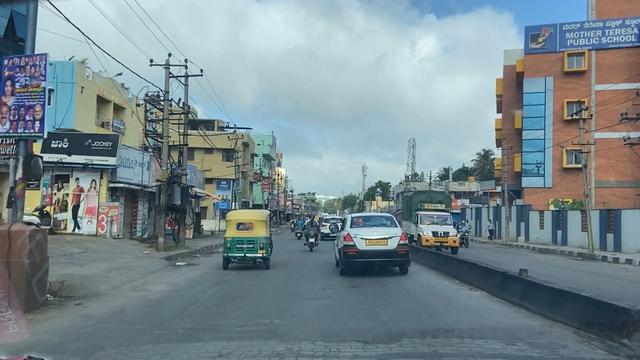LMV: (334, 210, 411, 276), (225, 209, 274, 271)
UnsurfacedRoad: (115, 325, 550, 360)
